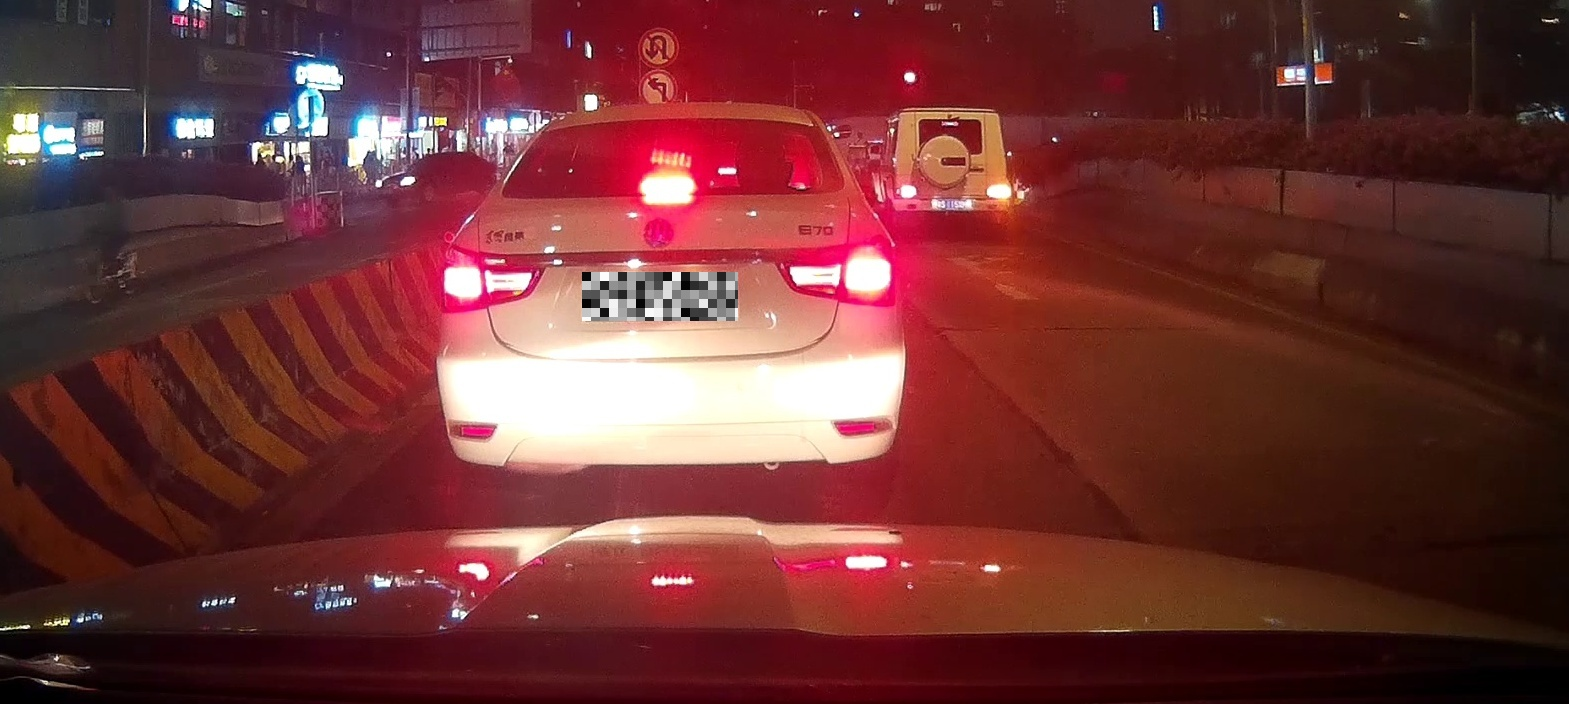L_light: (440, 242, 546, 312), (897, 185, 917, 197)
R_light: (773, 238, 894, 307), (987, 185, 1008, 199)
T_light: (639, 173, 695, 194), (940, 120, 959, 128)
night-brake: (434, 101, 896, 504)
night-right: (896, 107, 1009, 234)
plate_1: (582, 272, 738, 321)
